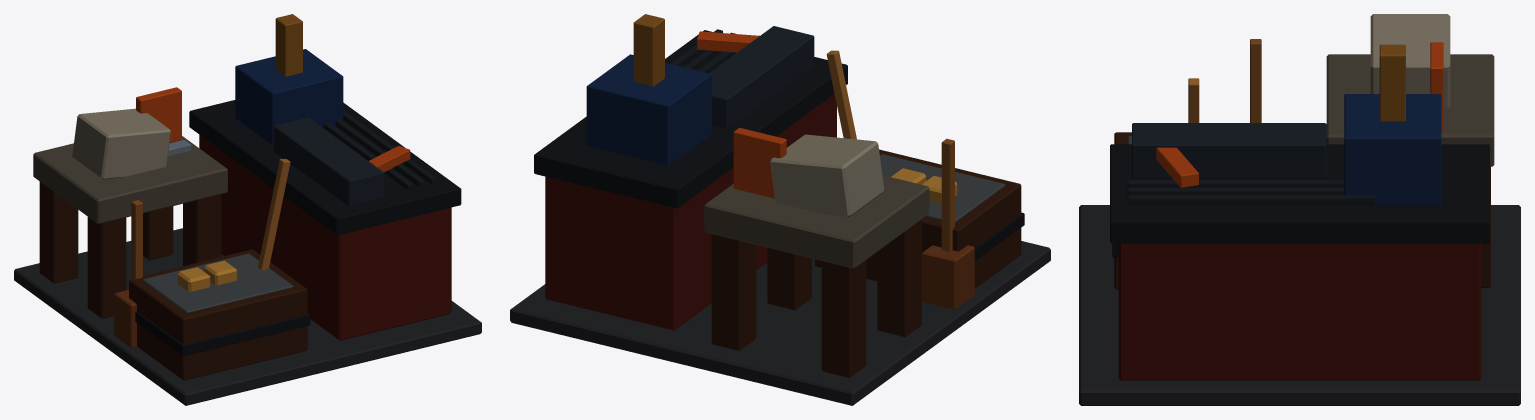
Rendered from mod_station_trough_chisel_steel.glb.
The picture shows the model from 3 angles, left to right: view 1: azimuth 30°, elevation 25°; view 2: azimuth 150°, elevation 25°; view 3: azimuth 270°, elevation 25°; orthographic projection. The views are drawn at different scales.
Parts seen in each view (by area): view 1: Mod_Station_Trough_Chisel_Steel; view 2: Mod_Station_Trough_Chisel_Steel; view 3: Mod_Station_Trough_Chisel_Steel.
Boxes of the visible parts, x1,y1,x2,y2 form: Mod_Station_Trough_Chisel_Steel: (14, 14, 481, 405); Mod_Station_Trough_Chisel_Steel: (510, 14, 1050, 405); Mod_Station_Trough_Chisel_Steel: (1079, 14, 1520, 405).
Bounding box in the file's own units: 2 × 1.56 × 2.
